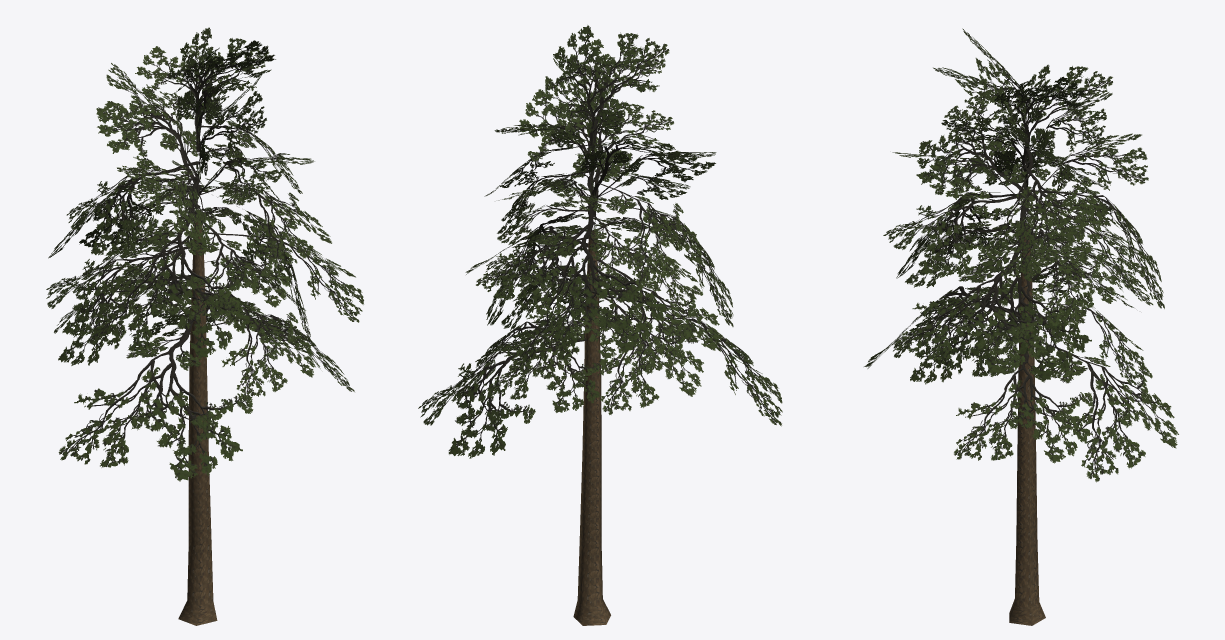
The model's file is PineTest.FBX.
The picture shows the model from 3 angles, left to right: view 1: azimuth 30°, elevation 25°; view 2: azimuth 150°, elevation 25°; view 3: azimuth 270°, elevation 25°; orthographic projection. The views are drawn at different scales.
Parts seen in each view (by area): view 1: Pine01_leaves; view 2: Pine01_leaves; view 3: Pine01_leaves.
Boxes of the visible parts, x1,y1,x2,y2 form: Pine01_leaves: (46, 27, 363, 625); Pine01_leaves: (418, 25, 782, 625); Pine01_leaves: (864, 28, 1178, 625).
Bounding box in the file's own units: 889 × 1421 × 856.
Materials: 2 (2 with a texture image).
